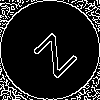Z: (25, 25, 79, 79)
